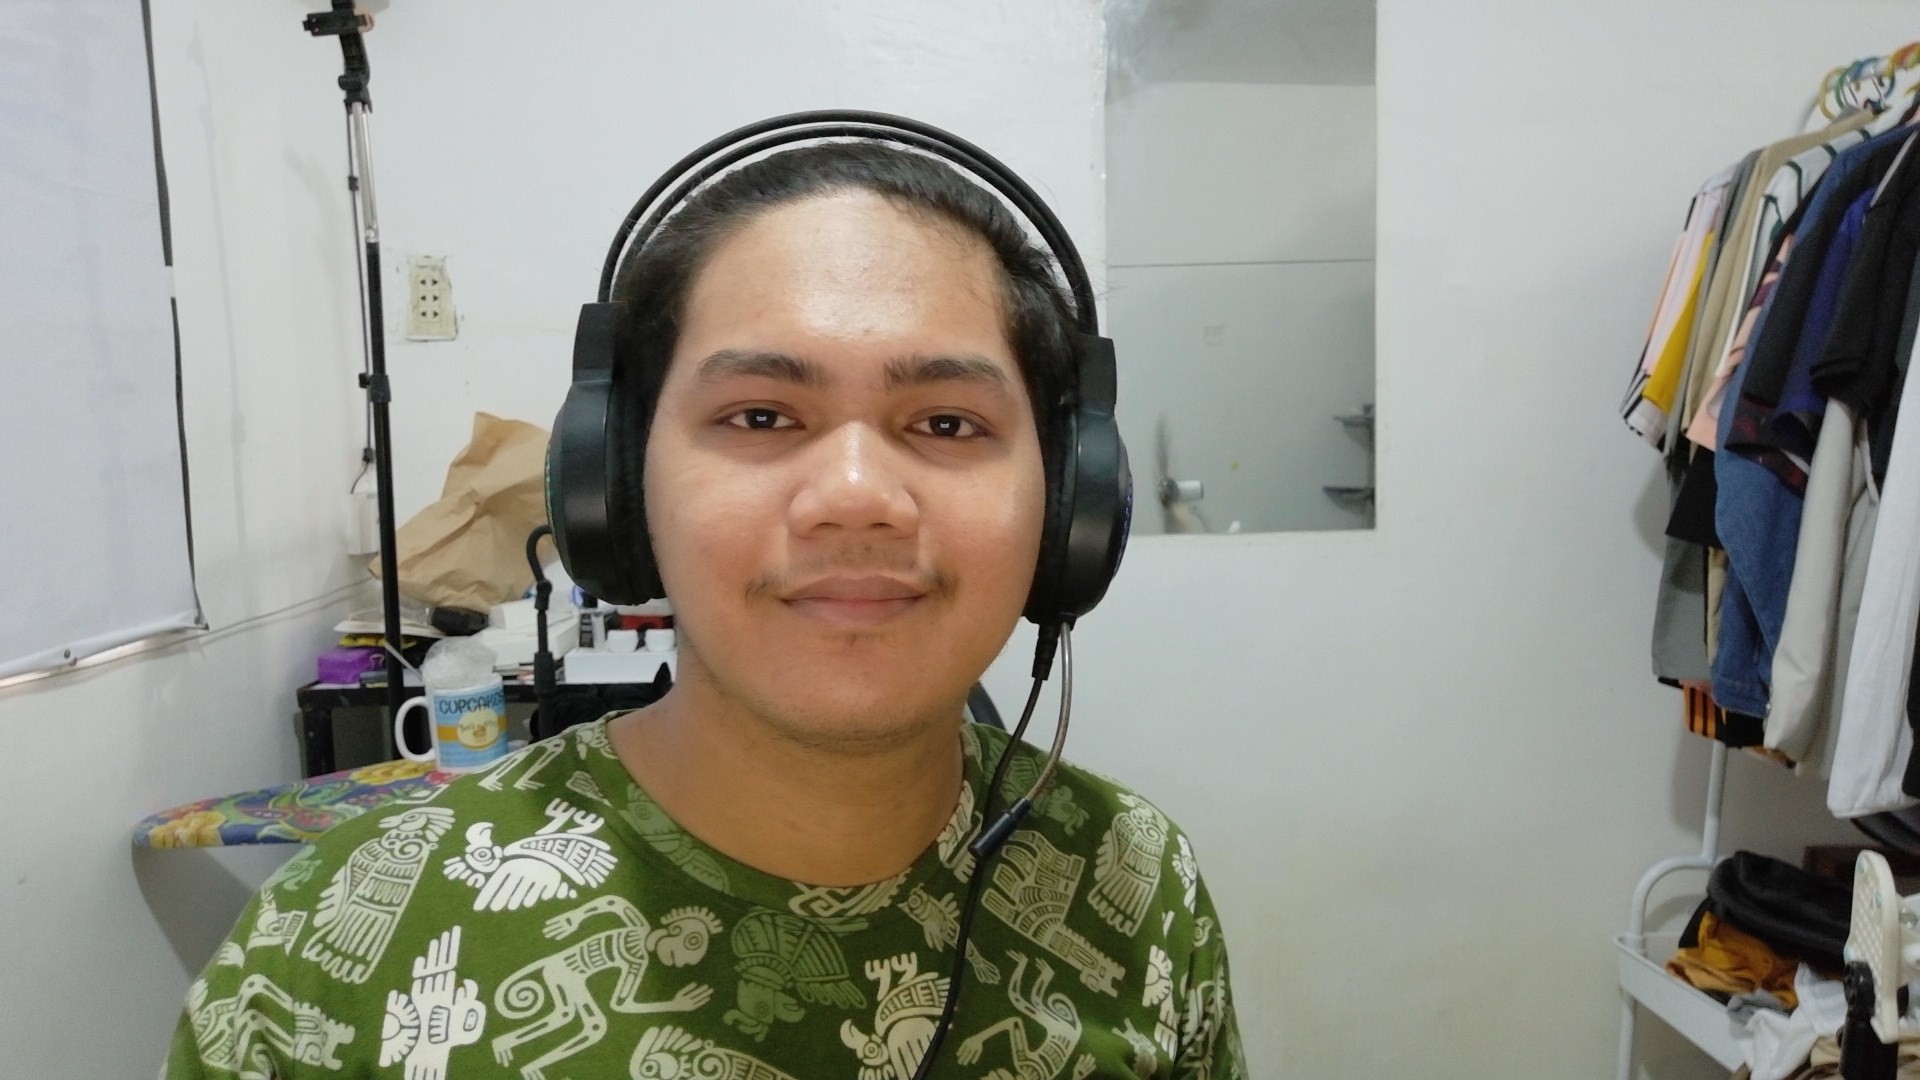face: (542, 77, 1185, 785)
